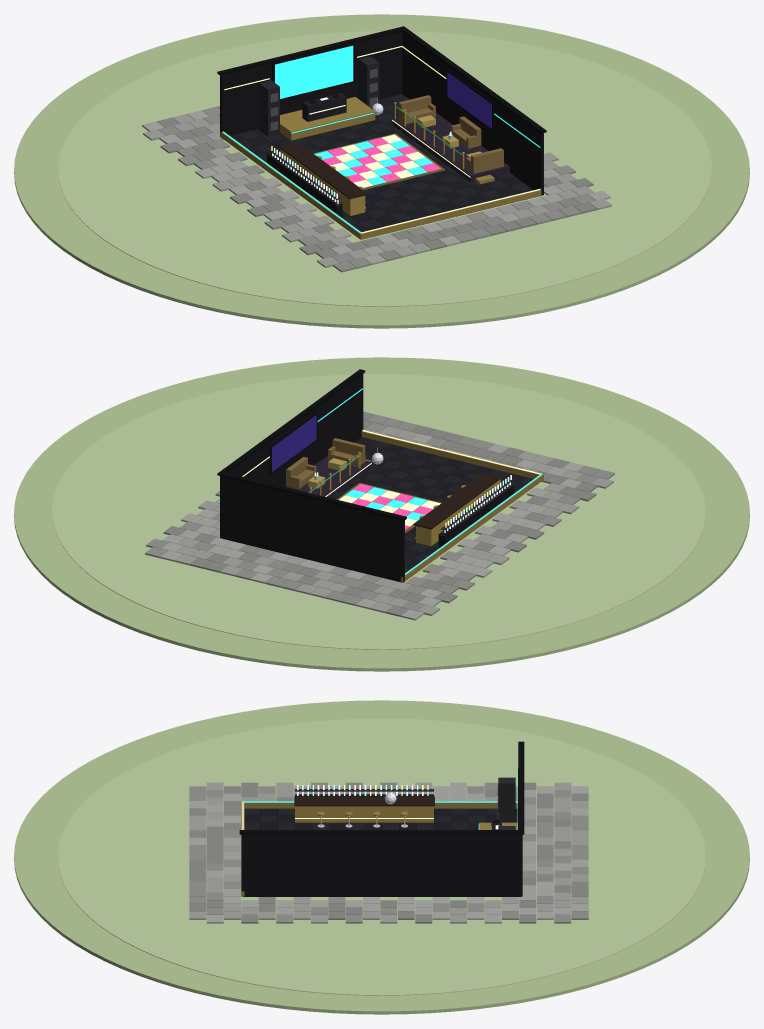
File: club-forbes.glb
The picture shows the model from 3 angles, top to bottom: view 1: azimuth 30°, elevation 25°; view 2: azimuth 150°, elevation 25°; view 3: azimuth 270°, elevation 25°; orthographic projection.
Visible parts, largest first — view 1: GrassInner, GrassInner.001, Grass, ClubWall.001, ClubWall, Pavers2, ClubFloor0, ClubFloor1, Pavers3, Pavers0, Pavers1, ClubScreen (+16 smaller); view 2: GrassInner, Grass, GrassInner.001, ClubWall, Pavers2, Pavers0, Pavers3, Pavers1, ClubWall.001, ClubFloor0, ClubFloor1, BarTop (+9 smaller); view 3: GrassInner, GrassInner.001, Grass, ClubWall.001, Pavers2, Pavers0, Pavers3, Pavers1, BarFront, ClubFloor0, ClubFloor1, BarTop (+4 smaller).
Part boxes in pixels (x1,y1,x2,y2): GrassInner: [58, 32, 705, 306]; GrassInner.001: [65, 31, 711, 303]; Grass: [14, 14, 749, 328]; ClubWall.001: [402, 32, 543, 195]; ClubWall: [220, 31, 402, 135]; Pavers2: [142, 110, 610, 264]; ClubFloor0: [238, 94, 531, 232]; ClubFloor1: [230, 97, 533, 230]; Pavers3: [157, 114, 596, 261]; Pavers0: [143, 114, 611, 267]; Pavers1: [158, 106, 595, 272]; ClubScreen: [275, 45, 353, 98]; GrassInner: [58, 375, 705, 649]; Grass: [14, 357, 749, 671]; GrassInner.001: [52, 374, 699, 646]; ClubWall: [220, 476, 404, 582]; Pavers2: [160, 428, 584, 620]; Pavers0: [175, 426, 613, 615]; Pavers3: [163, 411, 597, 616]; Pavers1: [145, 414, 614, 610]; ClubWall.001: [220, 374, 363, 538]; ClubFloor0: [332, 440, 533, 572]; ClubFloor1: [331, 437, 525, 567]; BarTop: [413, 472, 501, 529]; GrassInner: [58, 718, 705, 992]; GrassInner.001: [58, 721, 705, 995]; Grass: [14, 700, 749, 1014]; ClubWall.001: [241, 834, 522, 896]; Pavers2: [189, 782, 588, 923]; Pavers0: [189, 782, 588, 923]; Pavers3: [189, 782, 588, 923]; Pavers1: [189, 782, 588, 923]; BarFront: [295, 806, 433, 822]; ClubFloor0: [244, 808, 517, 829]; ClubFloor1: [244, 808, 517, 829]; BarTop: [294, 796, 434, 806].
Size of the model in its own units: 42.36 by 4.57 by 42.36.
